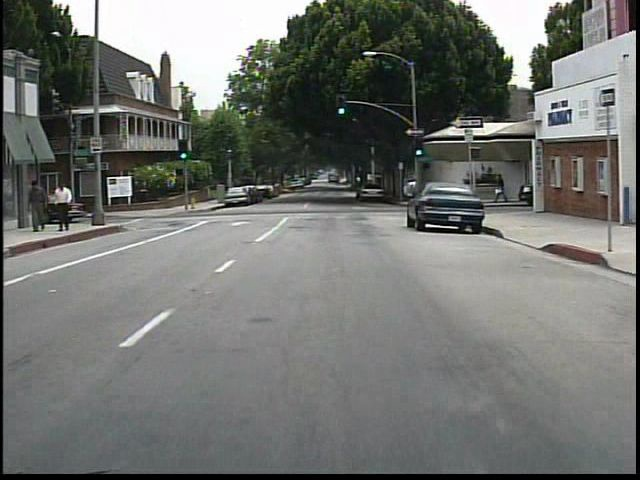person: (27, 176, 52, 234), (55, 179, 79, 233), (489, 170, 510, 205)
